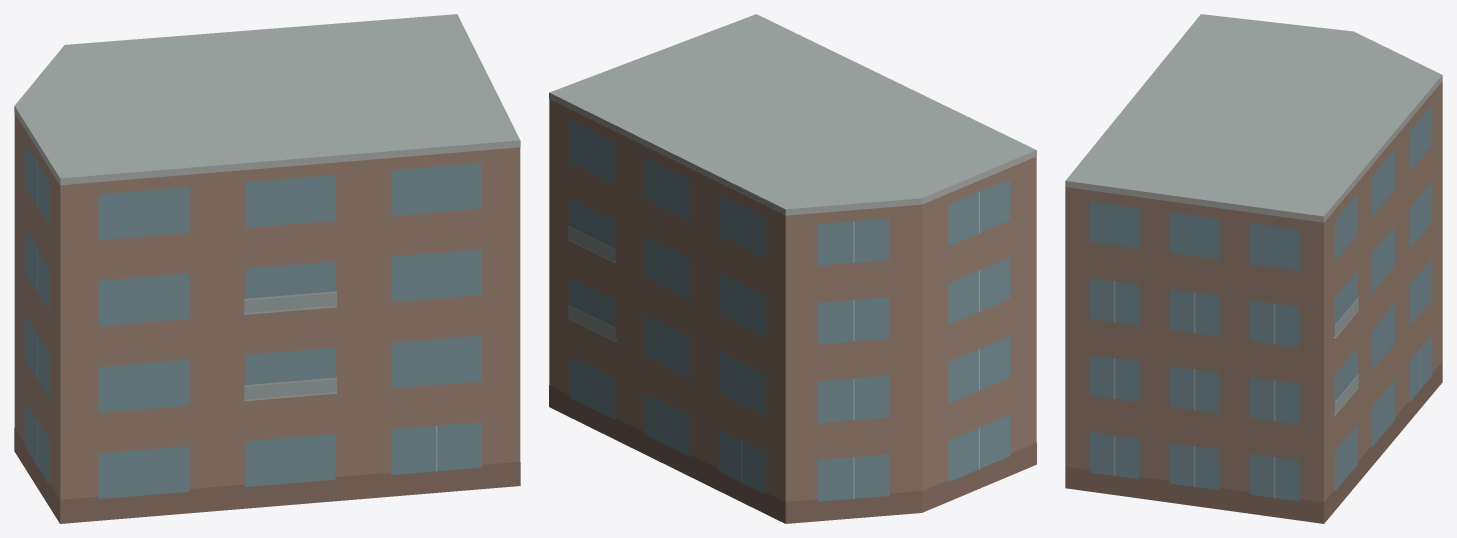
File: survey-upis-32693078.glb
3 views of the same model, side by side, from view 1: azimuth 30°, elevation 25°; view 2: azimuth 150°, elevation 25°; view 3: azimuth 270°, elevation 25° (orthographic). The views are drawn at different scales.
Parts seen in each view (by area): view 1: survey-upis-32693078.tmp; view 2: survey-upis-32693078.tmp; view 3: survey-upis-32693078.tmp.
Part boxes in pixels (bbox=[...]): survey-upis-32693078.tmp: bbox=[14, 14, 520, 523]; survey-upis-32693078.tmp: bbox=[549, 14, 1036, 523]; survey-upis-32693078.tmp: bbox=[1065, 14, 1442, 523].
Bounding box in the file's own units: 17.25 × 12.2 × 13.58.
